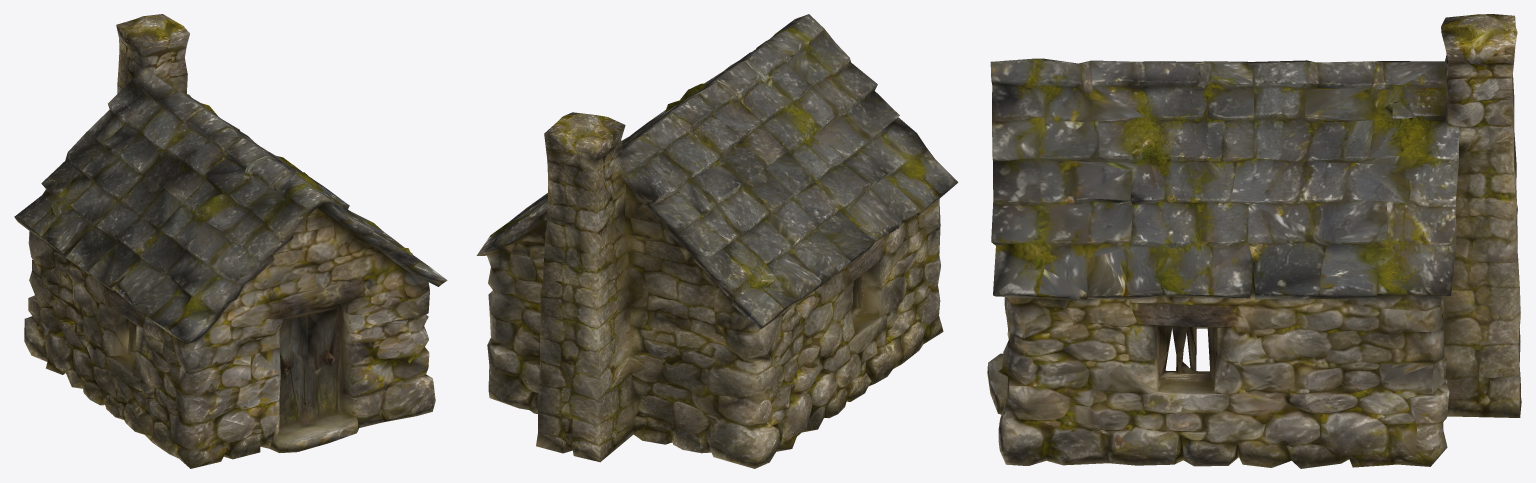
Rendered from land_farmhouse.obj.
3 renders of one model, left to right at view 1: azimuth 30°, elevation 25°; view 2: azimuth 150°, elevation 25°; view 3: azimuth 270°, elevation 25°, orthographic. The views are drawn at different scales.
Parts seen in each view (by area): view 1: land_farmhouse; view 2: land_farmhouse; view 3: land_farmhouse.
Boxes of the visible parts, <box> form: land_farmhouse: <box>14,14,447,468</box>; land_farmhouse: <box>476,14,958,468</box>; land_farmhouse: <box>987,14,1521,468</box>.
Bounding box in the file's own units: 5.29 × 5.49 × 6.98.
1 material, 1 textured.
